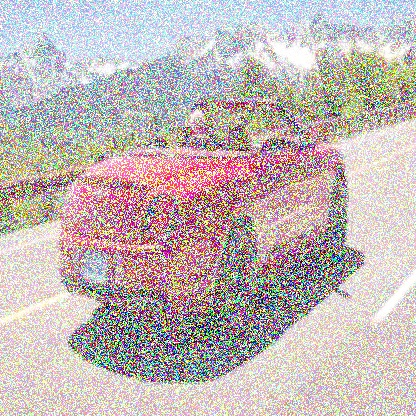Vehicle: (58, 97, 352, 354)
